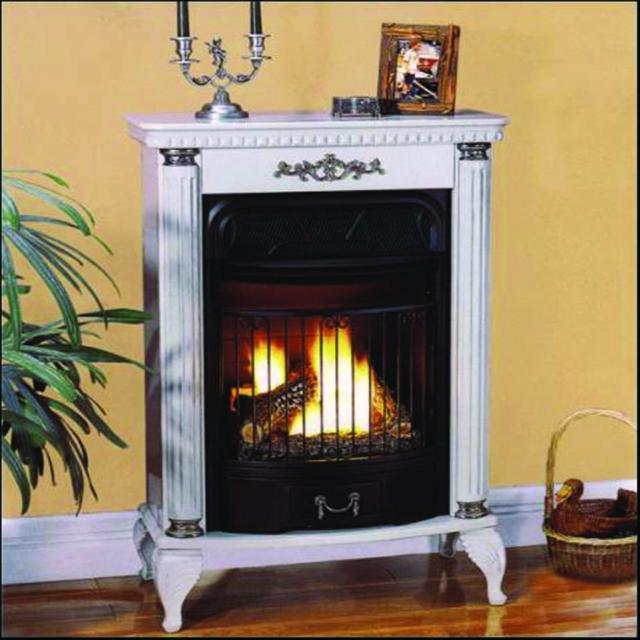Fire: (245, 330, 400, 436)
